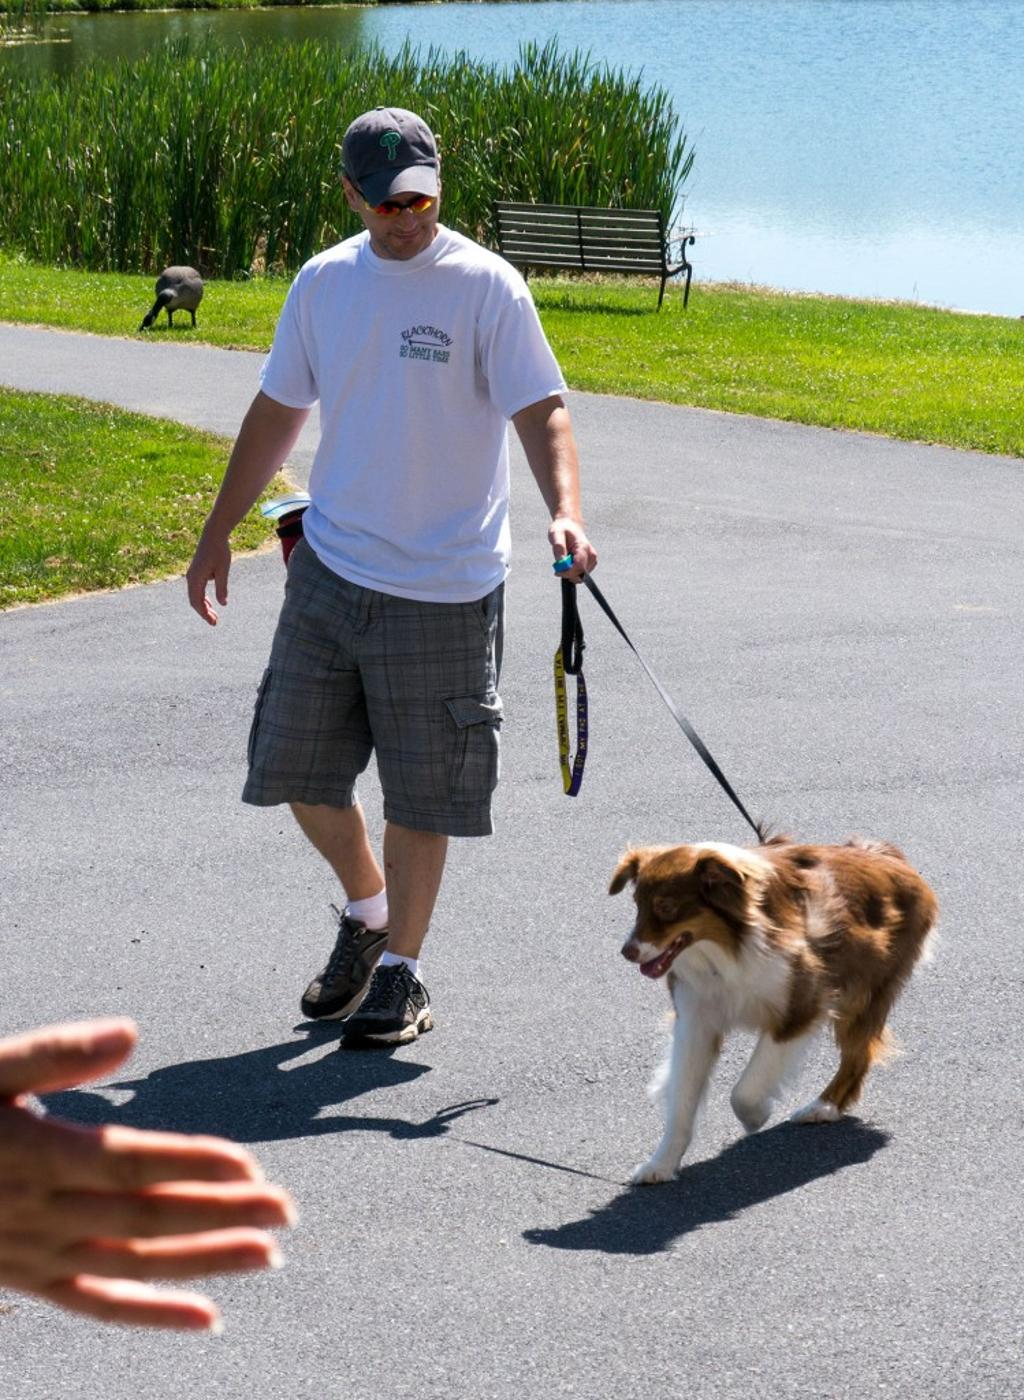face: (360, 153, 439, 257)
